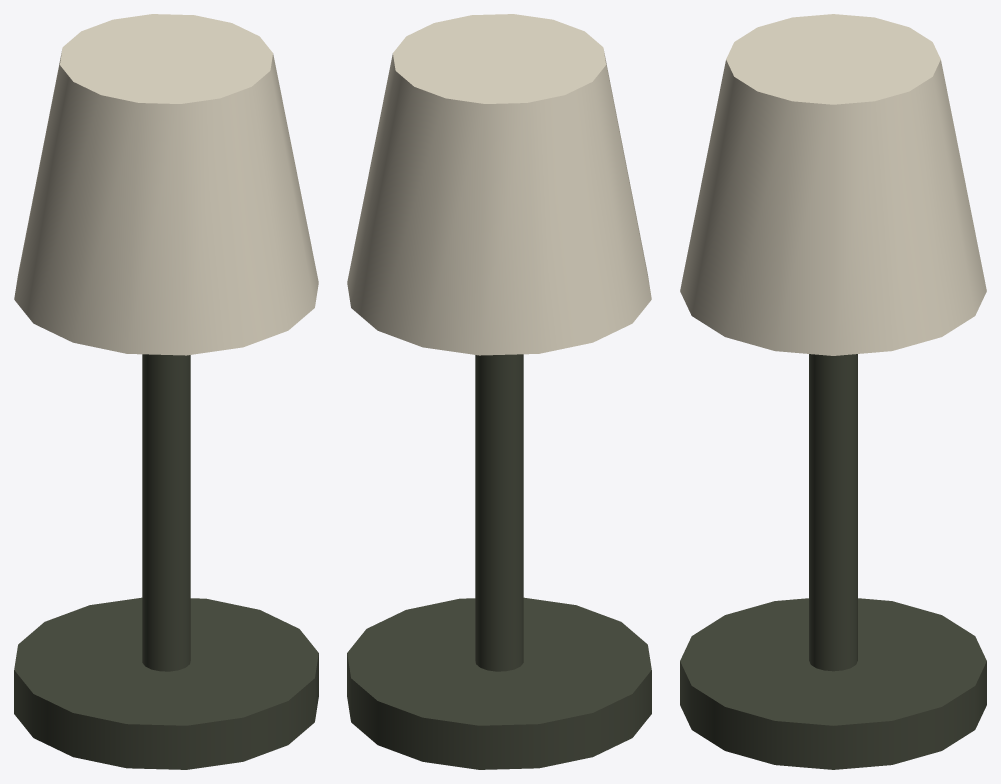
The model's file is desk-lamp.glb.
The picture shows the model from 3 angles, left to right: view 1: azimuth 30°, elevation 25°; view 2: azimuth 150°, elevation 25°; view 3: azimuth 270°, elevation 25°; orthographic projection.
Visible parts, largest first — view 1: REF-L02-R01-desk-lamp-part-3, REF-L02-R01-desk-lamp-part-1, REF-L02-R01-desk-lamp-part-2; view 2: REF-L02-R01-desk-lamp-part-3, REF-L02-R01-desk-lamp-part-1, REF-L02-R01-desk-lamp-part-2; view 3: REF-L02-R01-desk-lamp-part-3, REF-L02-R01-desk-lamp-part-1, REF-L02-R01-desk-lamp-part-2.
Boxes of the visible parts, x1,y1,x2,y2 form: REF-L02-R01-desk-lamp-part-3: (14, 14, 318, 355); REF-L02-R01-desk-lamp-part-1: (14, 597, 318, 769); REF-L02-R01-desk-lamp-part-2: (142, 354, 190, 671); REF-L02-R01-desk-lamp-part-3: (347, 14, 651, 355); REF-L02-R01-desk-lamp-part-1: (347, 597, 651, 769); REF-L02-R01-desk-lamp-part-2: (475, 354, 523, 671); REF-L02-R01-desk-lamp-part-3: (680, 14, 986, 355); REF-L02-R01-desk-lamp-part-1: (680, 598, 986, 769); REF-L02-R01-desk-lamp-part-2: (809, 354, 857, 671).
Bounding box in the file's own units: 0.063 × 0.1462 × 0.063.
